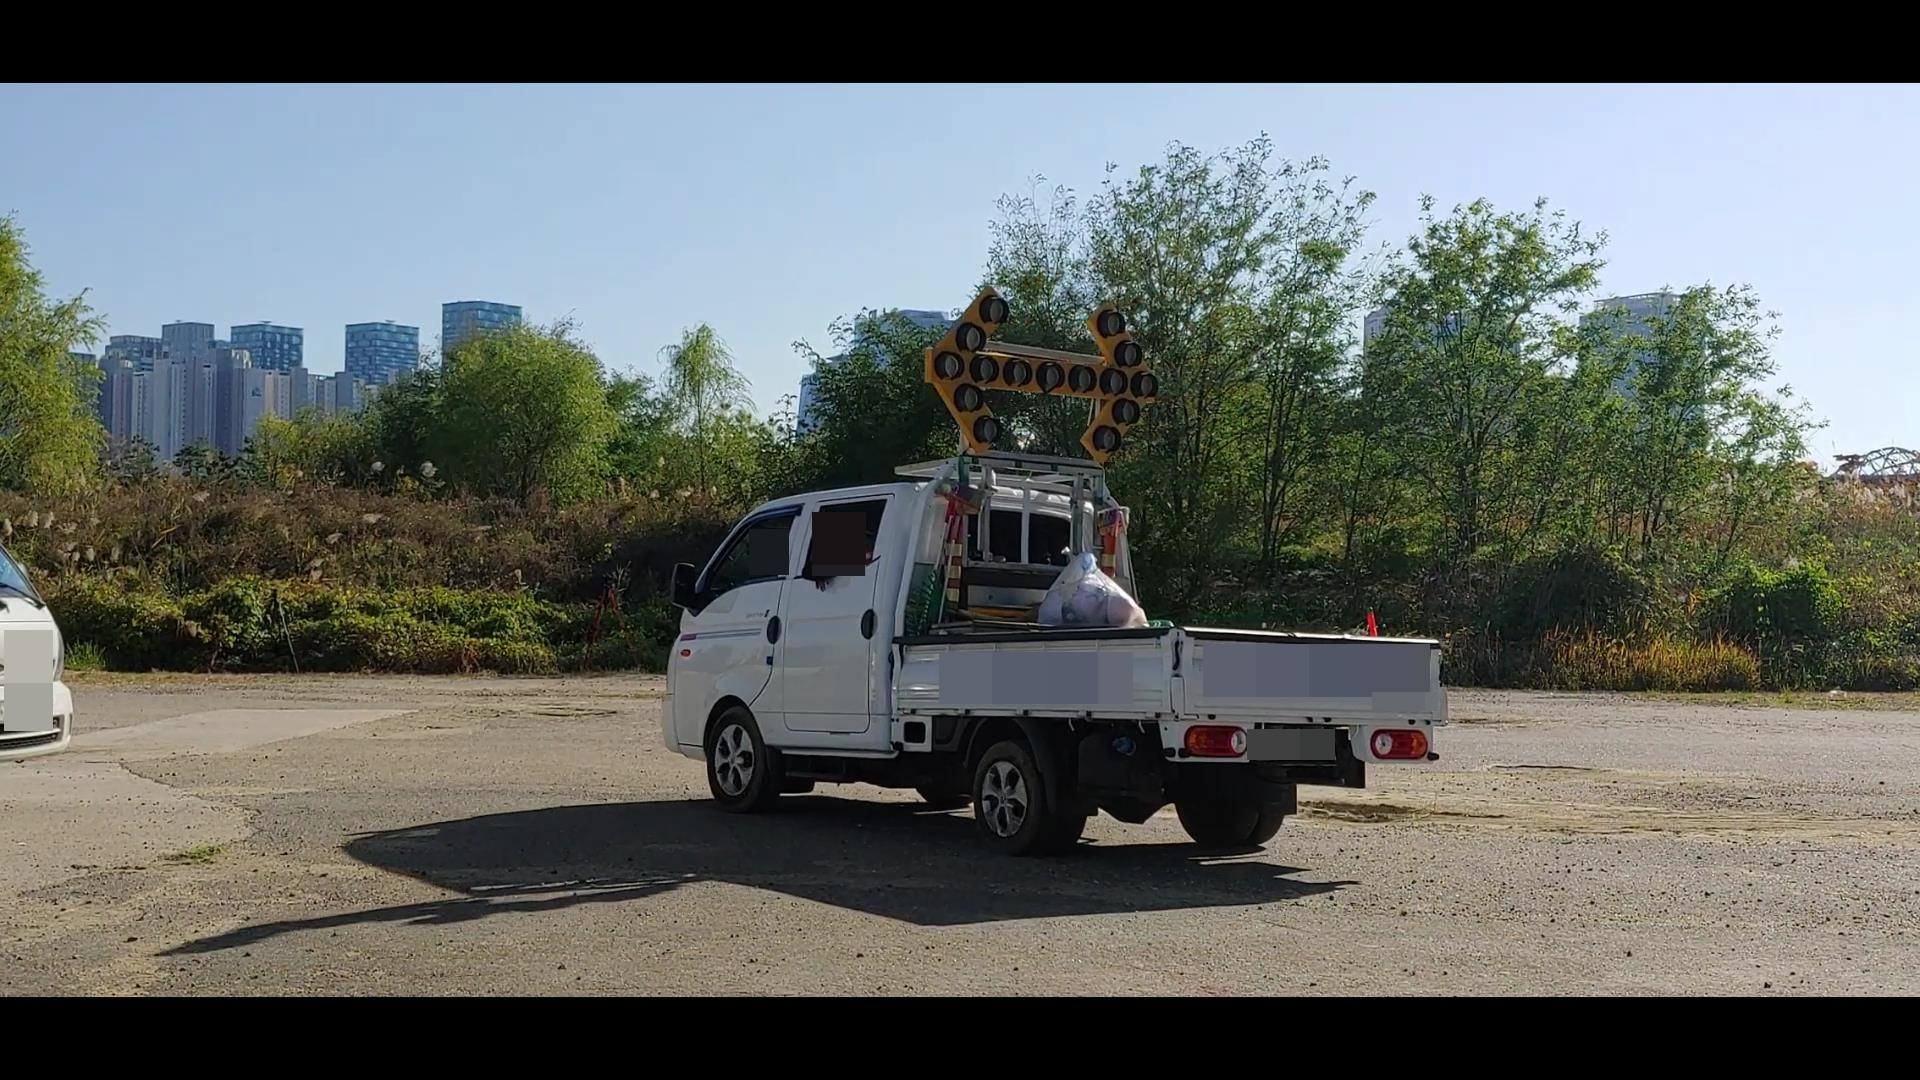불법차량: (659, 285, 1449, 858)
